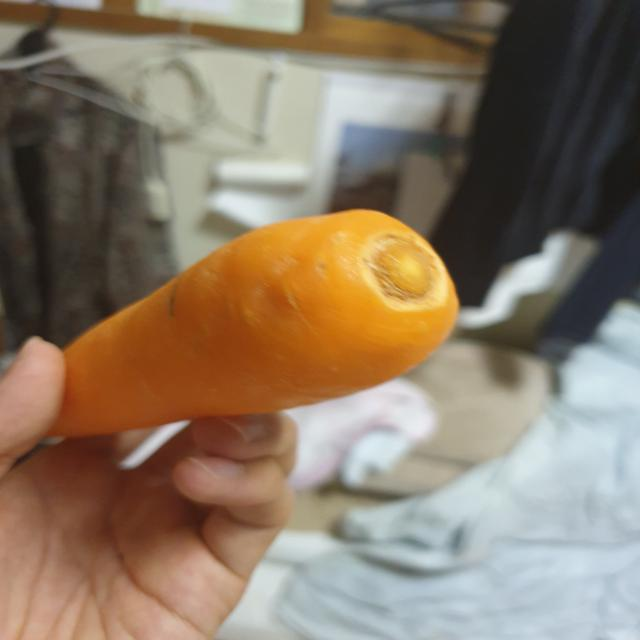Carrot: (26, 205, 465, 445)
